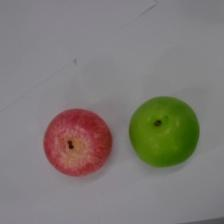green: (128, 94, 200, 168)
red: (42, 107, 114, 178)
